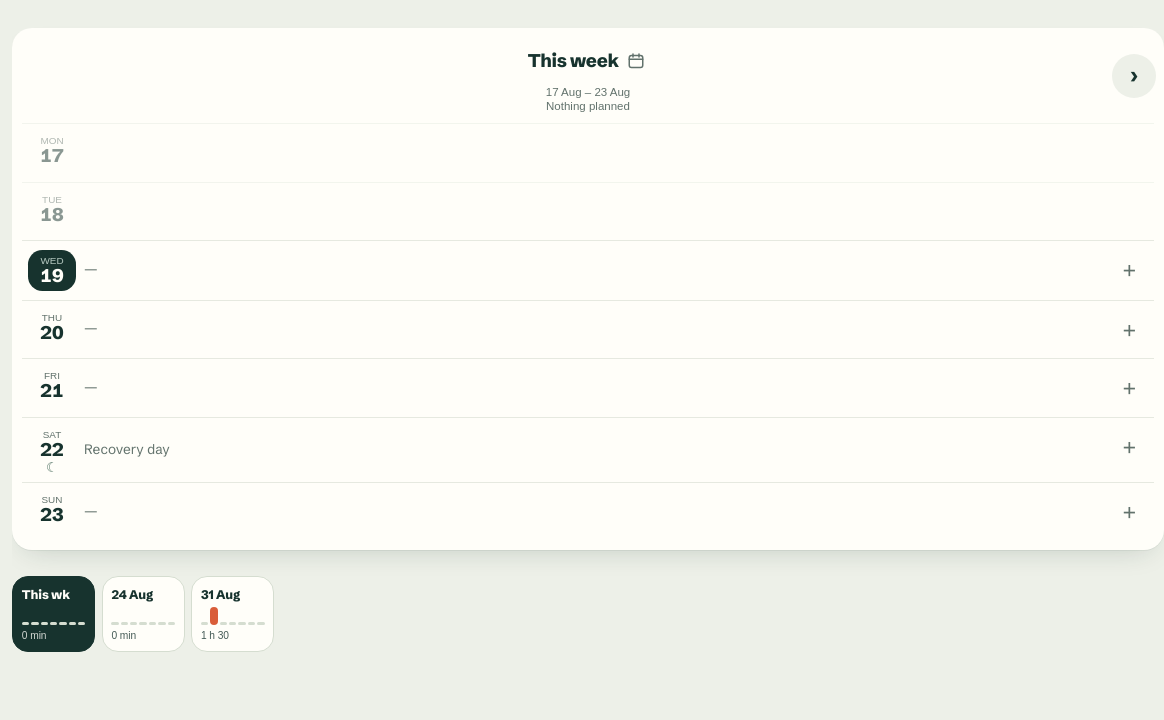
PlanManager › pages between weeks with the arrows and the tiles
Click the button named "Next week": click(1134, 76) x1=1112 y1=54 x2=1156 y2=98
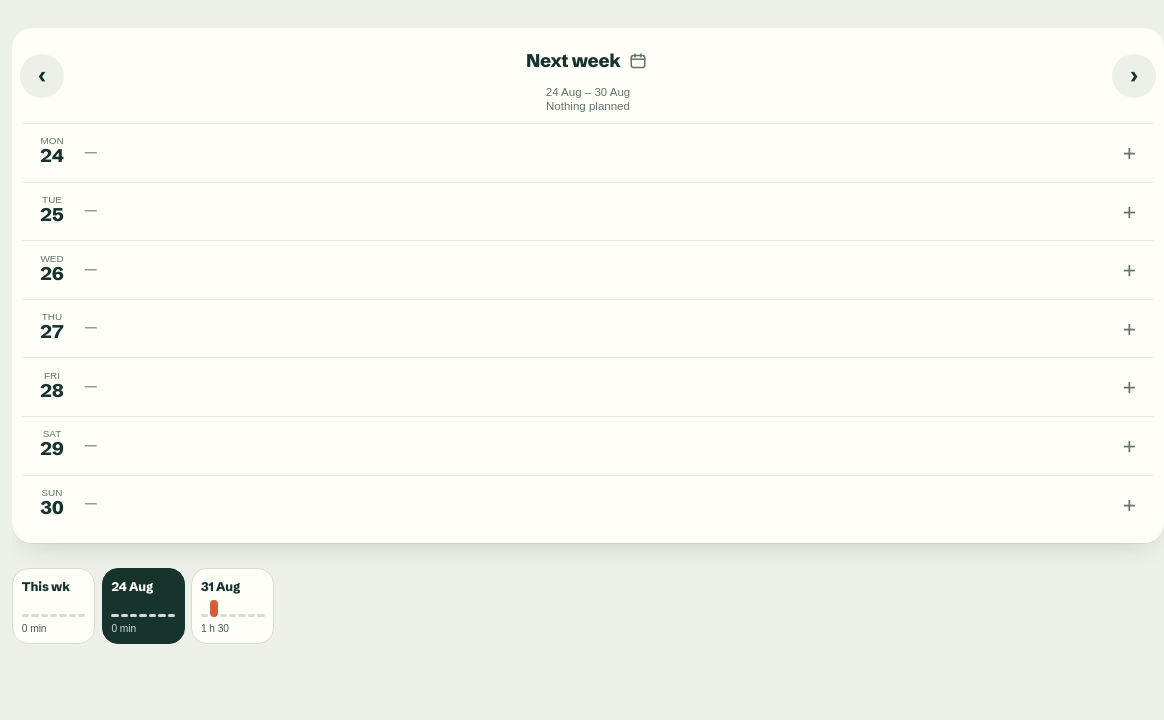
Now the heading "Next week" is shown, box x1=526 y1=47 x2=620 y2=75
# The last week ends past the window: its days are not open yet.
Click the button with aria-label "Week of Mon 31 Aug": click(233, 606) x1=191 y1=568 x2=274 y2=644
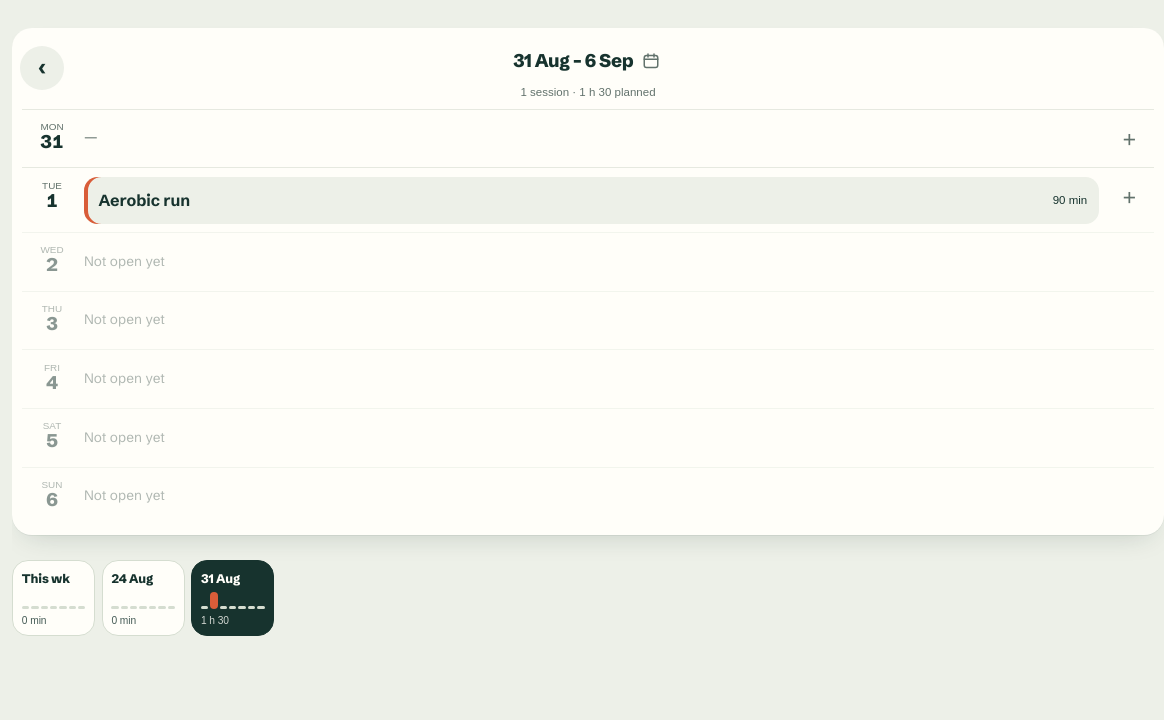
Now the heading "Next week" is gone
Now the text "1 session · 1 h 30 planned" is shown, box x1=520 y1=86 x2=656 y2=98
